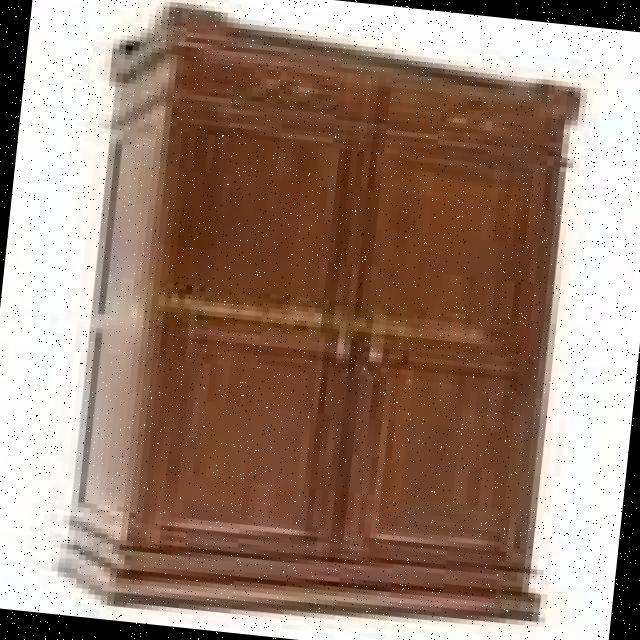Closet: (35, 0, 610, 640)
